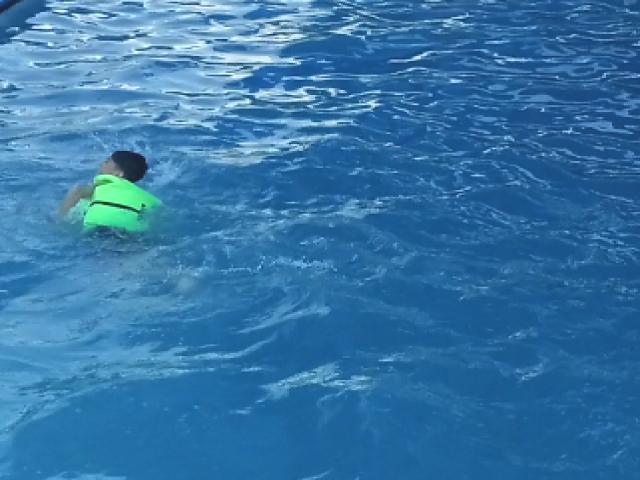swimming: (61, 152, 162, 240)
